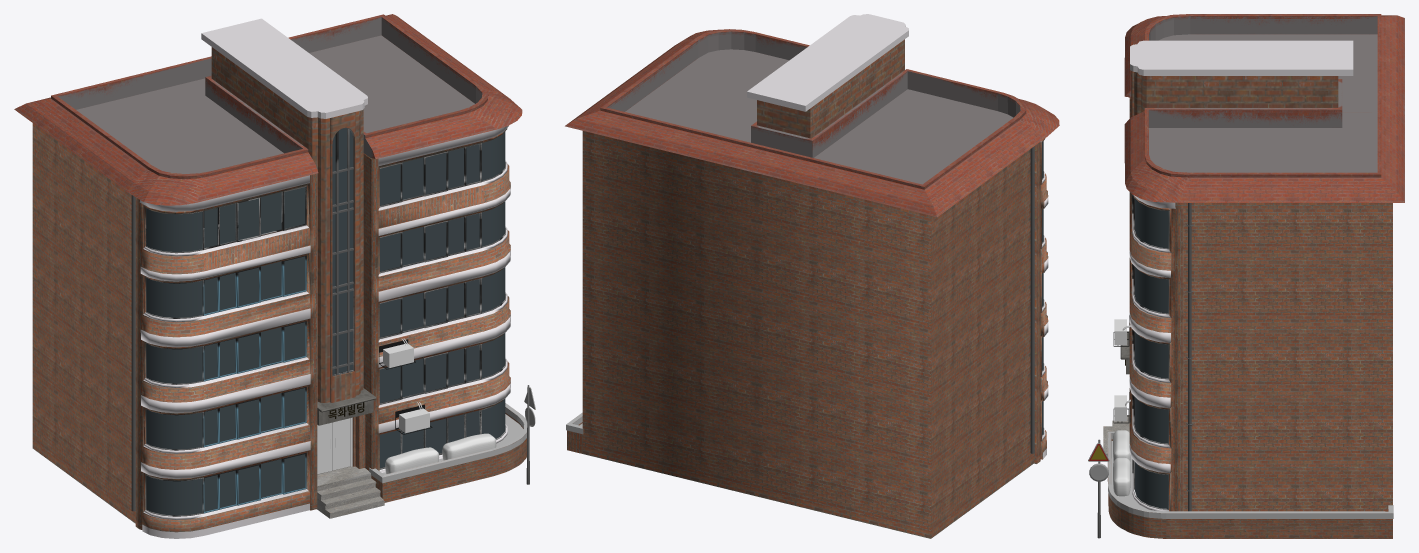
The model's file is stage2_building1(no mat).fbx.
3 views of the same model, side by side, from view 1: azimuth 30°, elevation 25°; view 2: azimuth 150°, elevation 25°; view 3: azimuth 270°, elevation 25° (orthographic). The views are drawn at different scales.
Visible parts, largest first — view 1: Cube.003, Cube.188, Cube.011, Cube.061, Cube.013, Cube.093, Cube.087, Cube.081, Cube.075, Cube.038, Cube.057, Cube.051 (+14 smaller); view 2: Cube.003, Cube.188, Cube.013, Cube.011, NurbsPath.033; view 3: Cube.003, Cube.188, Cube.038, Cube.013, Cube.011, Cube.061, NurbsPath, Cube.069, Cube.057, Cube.051, Cube.046, Cube.113 (+1 smaller).
Boxes of the visible parts, <box> form: Cube.003: <box>32,123,510,538</box>; Cube.188: <box>14,14,522,205</box>; Cube.011: <box>211,47,363,402</box>; Cube.061: <box>146,132,505,251</box>; Cube.013: <box>201,18,367,118</box>; Cube.093: <box>146,256,305,317</box>; Cube.087: <box>146,322,305,383</box>; Cube.081: <box>146,388,305,449</box>; Cube.075: <box>146,454,305,515</box>; Cube.038: <box>369,403,527,502</box>; Cube.057: <box>379,201,505,271</box>; Cube.051: <box>379,267,505,337</box>; Cube.003: <box>582,131,1048,538</box>; Cube.188: <box>565,29,1059,217</box>; Cube.013: <box>747,14,908,111</box>; Cube.011: <box>757,39,904,138</box>; NurbsPath.033: <box>1030,146,1034,453</box>; Cube.003: <box>1129,98,1392,511</box>; Cube.188: <box>1124,14,1404,202</box>; Cube.038: <box>1107,431,1393,538</box>; Cube.013: <box>1130,40,1353,75</box>; Cube.011: <box>1131,71,1338,116</box>; Cube.061: <box>1132,194,1168,248</box>; NurbsPath: <box>1188,203,1191,511</box>; Cube.069: <box>1135,462,1168,508</box>; Cube.057: <box>1135,267,1168,313</box>; Cube.051: <box>1135,332,1168,378</box>; Cube.046: <box>1135,397,1168,443</box>; Cube.113: <box>1113,457,1130,496</box>.
Bounding box in the file's own units: 4989 × 4991 × 3573.
